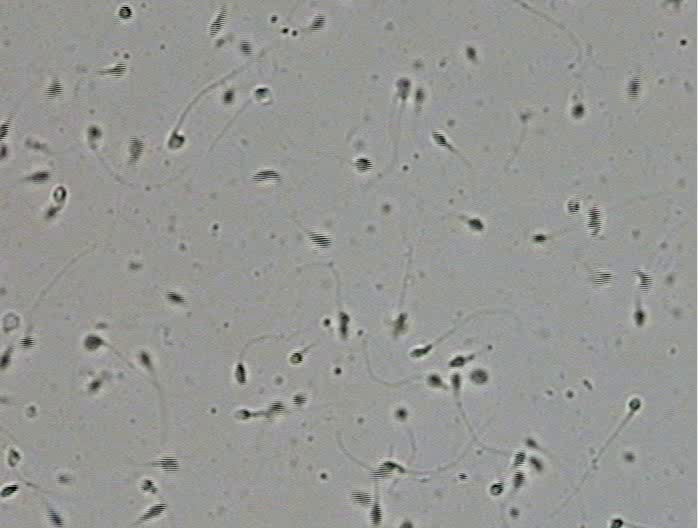S: (369, 461, 405, 479), (586, 205, 602, 237), (127, 136, 144, 160), (308, 232, 332, 249), (210, 13, 226, 37), (252, 170, 281, 183), (636, 271, 653, 293), (395, 78, 411, 101), (338, 311, 350, 340), (46, 81, 64, 100), (160, 456, 180, 473), (351, 491, 373, 506), (266, 401, 285, 418), (369, 503, 383, 526), (393, 313, 408, 334), (627, 78, 641, 100), (309, 13, 326, 31), (84, 335, 104, 350), (409, 345, 432, 358), (47, 510, 64, 527), (168, 133, 185, 149), (431, 131, 448, 147), (109, 63, 127, 78), (140, 479, 158, 494), (470, 369, 489, 383), (594, 271, 613, 285), (234, 363, 246, 385), (7, 449, 21, 467), (355, 158, 373, 172), (147, 504, 166, 517), (512, 470, 525, 489), (53, 186, 67, 203), (448, 355, 466, 368), (166, 292, 185, 304), (87, 126, 103, 140), (19, 336, 35, 350), (427, 374, 443, 388), (529, 456, 543, 472), (1, 484, 18, 497), (512, 451, 525, 468), (634, 309, 646, 327), (118, 5, 133, 19), (29, 172, 50, 182), (239, 39, 252, 55), (468, 218, 484, 231), (567, 198, 580, 214), (571, 104, 584, 119), (450, 373, 462, 389), (254, 87, 271, 98), (1, 122, 10, 142), (414, 87, 425, 103), (629, 397, 641, 411), (223, 89, 234, 104), (290, 352, 303, 364), (490, 483, 503, 495), (140, 353, 151, 367), (236, 409, 250, 420), (465, 46, 476, 60), (1, 351, 10, 368), (531, 234, 547, 243), (45, 207, 58, 218), (88, 380, 101, 391), (292, 395, 306, 405), (610, 518, 624, 528), (525, 438, 537, 449), (396, 409, 407, 420), (1, 144, 7, 160), (400, 522, 412, 528)
